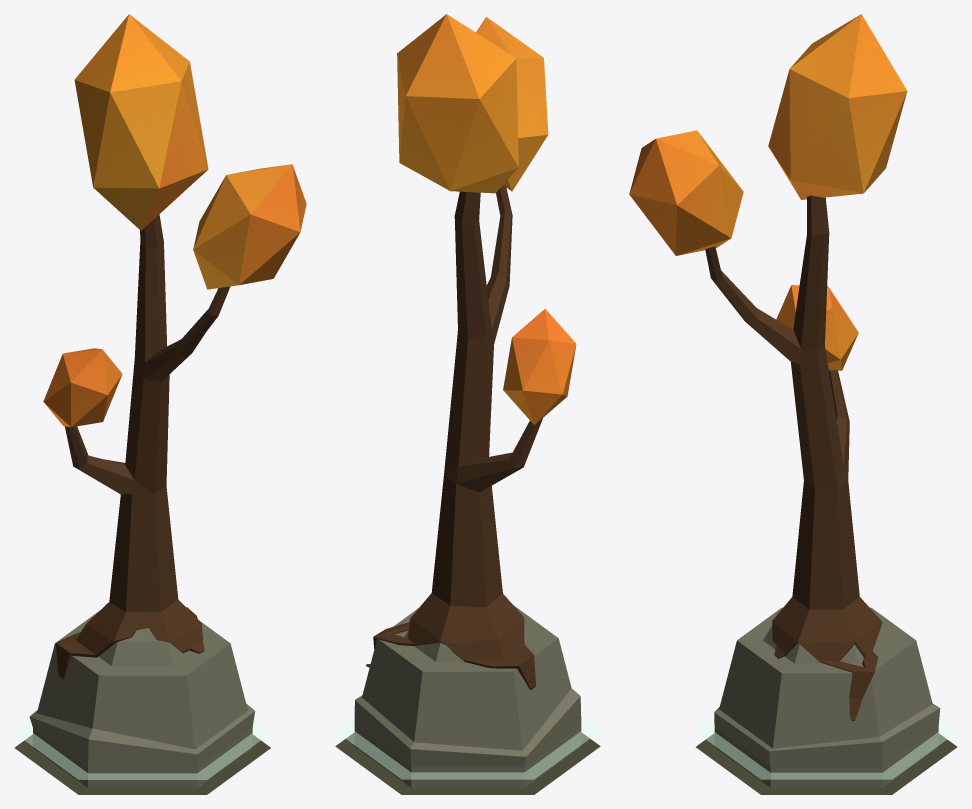
The model's file is MainPoint4.fbx.
3 renders of one model, left to right at view 1: azimuth 30°, elevation 25°; view 2: azimuth 150°, elevation 25°; view 3: azimuth 270°, elevation 25°, orthographic. The views are drawn at different scales.
Parts seen in each view (by area): view 1: Mainpoint4; view 2: Mainpoint4; view 3: Mainpoint4.
Part boxes in pixels (left/top/right/bottom): Mainpoint4: left=14, top=14, right=306, bottom=794; Mainpoint4: left=335, top=14, right=600, bottom=794; Mainpoint4: left=629, top=14, right=957, bottom=794.
Bounding box in the file's own units: 2.03 × 2.93 × 7.24.
